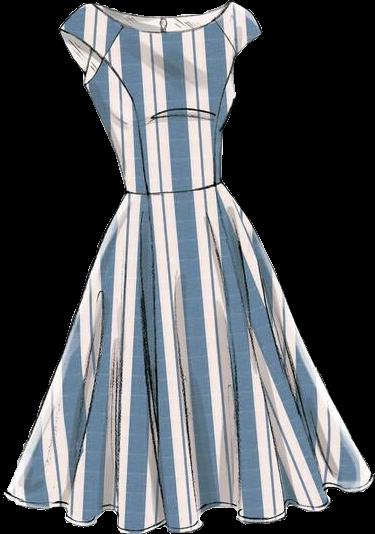Bodice: (83, 12, 236, 194)
Hemline: (3, 476, 374, 533)
Neckline: (117, 17, 218, 37)
Skirt: (4, 185, 372, 533)
Sleeve: (59, 3, 125, 80), (205, 1, 262, 54)
Sleeveline: (82, 13, 127, 82), (207, 9, 238, 55)
Waistline: (122, 180, 223, 200)
